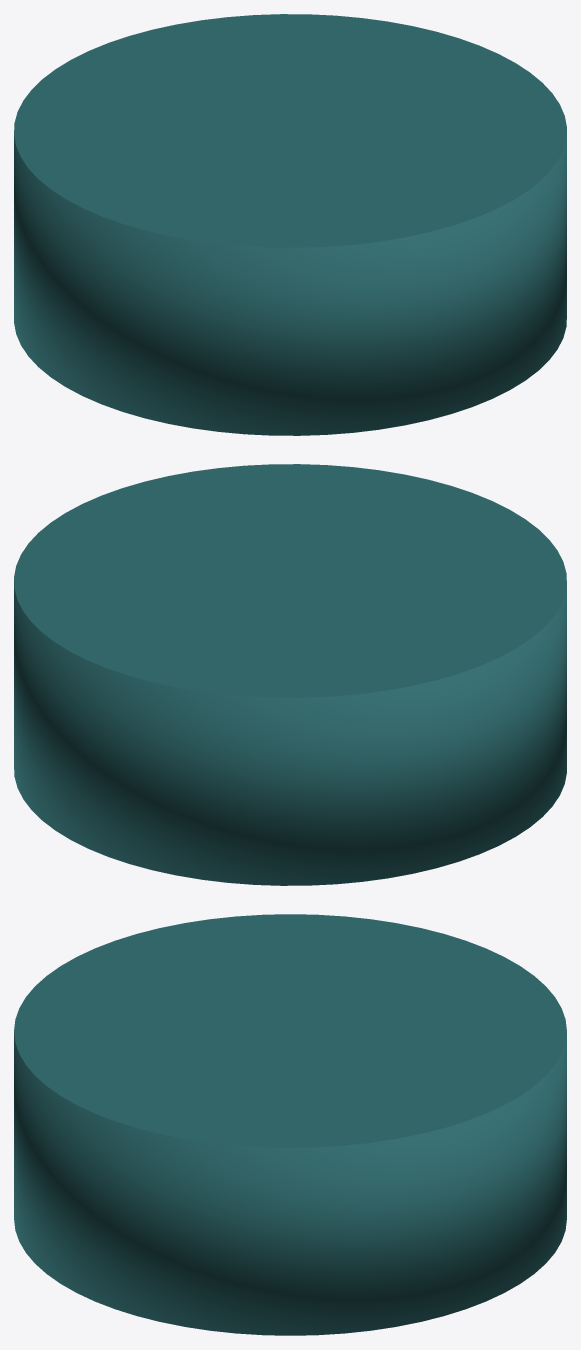
The model's file is cycle_control.glb.
3 views of the same model, one above another, from view 1: azimuth 30°, elevation 25°; view 2: azimuth 150°, elevation 25°; view 3: azimuth 270°, elevation 25° (orthographic).
Parts seen in each view (by area): view 1: knob; view 2: knob; view 3: knob.
Part boxes in pixels (left/top/right/bottom): knob: left=14, top=14, right=566, bottom=435; knob: left=14, top=464, right=566, bottom=885; knob: left=14, top=914, right=566, bottom=1335.
Size of the model in its own units: 0.032 by 0.013 by 0.032.
